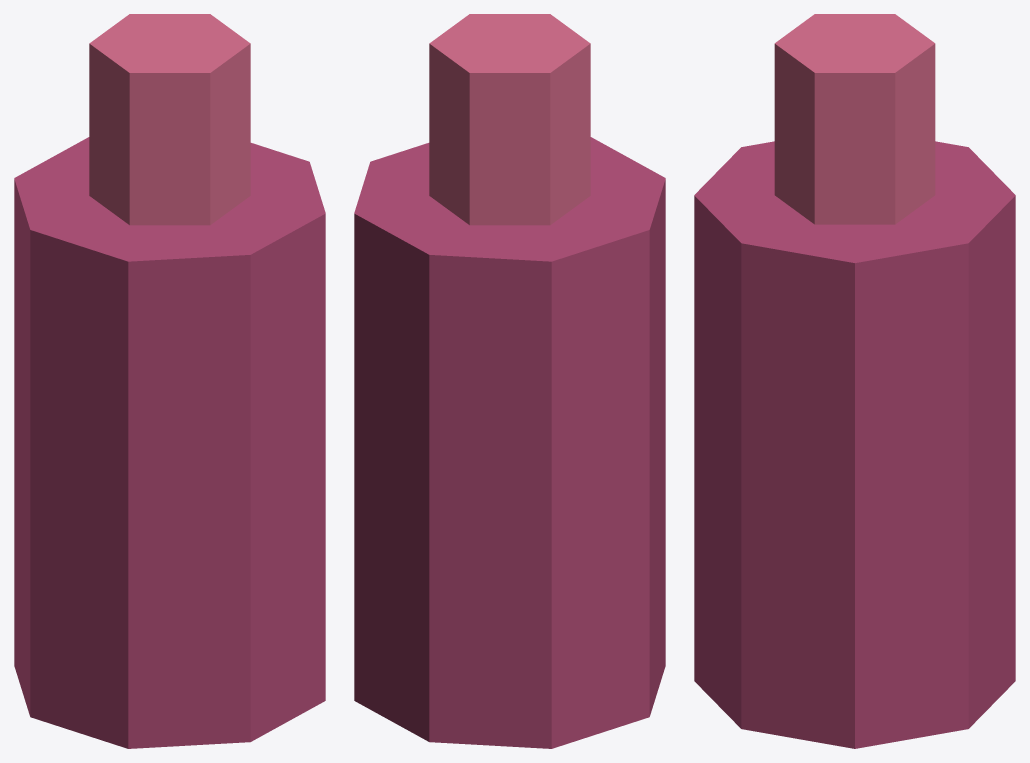
The model's file is wine.glb.
3 renders of one model, left to right at view 1: azimuth 30°, elevation 25°; view 2: azimuth 150°, elevation 25°; view 3: azimuth 270°, elevation 25°, orthographic.
Parts seen in each view (by area): view 1: bottle, neck; view 2: bottle, neck; view 3: bottle, neck.
Part boxes in pixels (left/top/right/bottom): bottle: left=14, top=137, right=325, bottom=748; neck: left=89, top=14, right=250, bottom=225; bottle: left=354, top=137, right=665, bottom=748; neck: left=429, top=14, right=590, bottom=225; bottle: left=694, top=141, right=1015, bottom=748; neck: left=774, top=14, right=935, bottom=224.
Bounding box in the file's own units: 0.024 × 0.0525 × 0.024.
